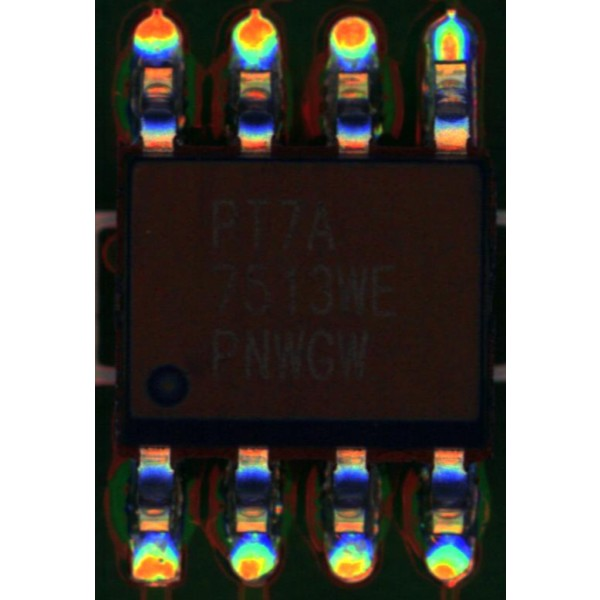Bad_podu: (438, 36, 460, 74)
